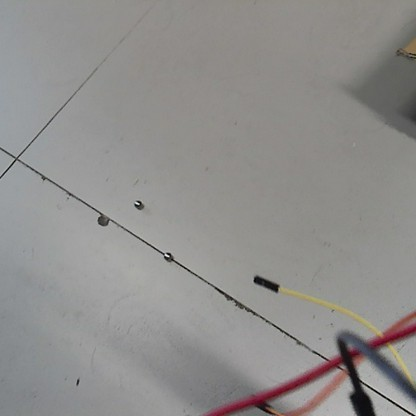ironball: (131, 196, 144, 210), (160, 248, 173, 262)
